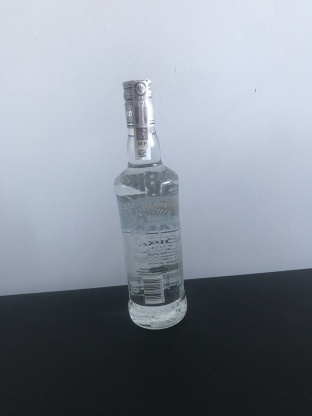nakretka: (120, 76, 156, 130)
